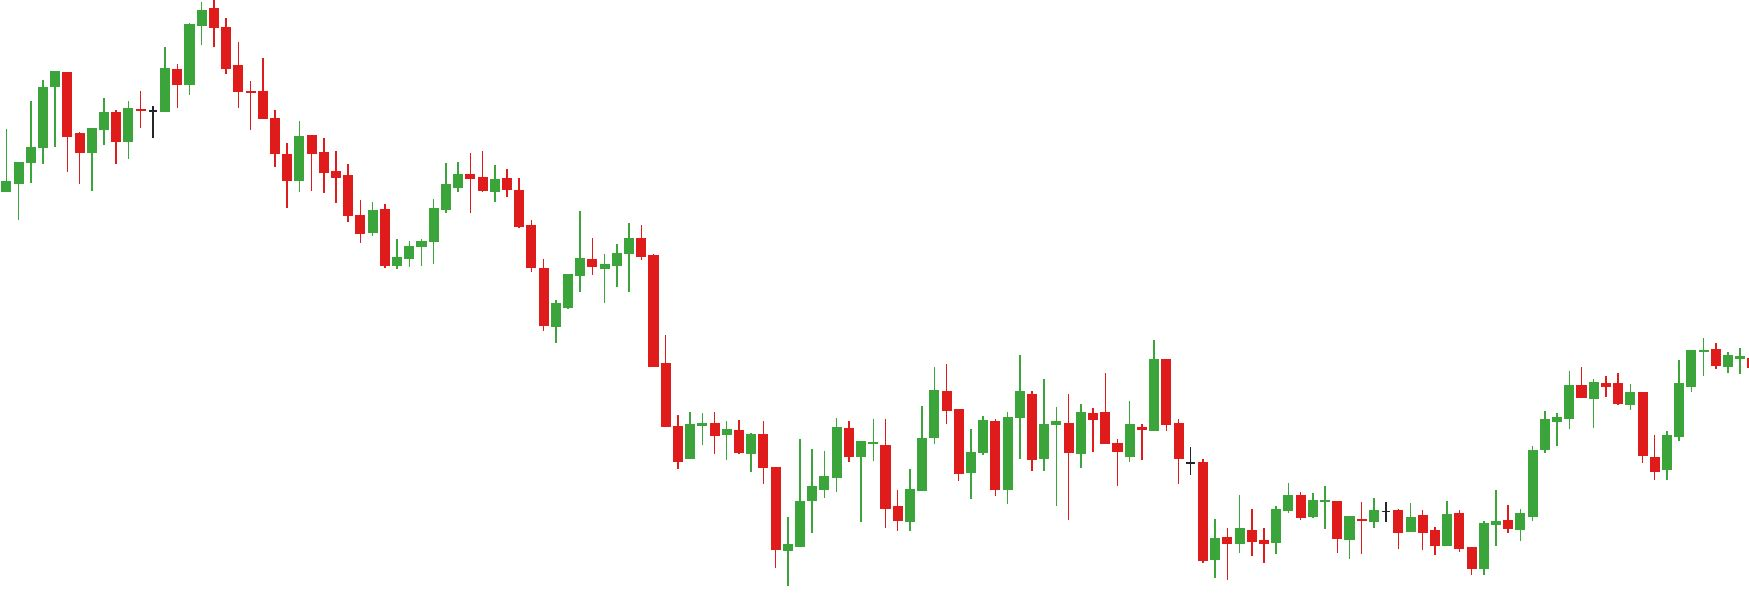sell: (1096, 342, 1175, 466)
